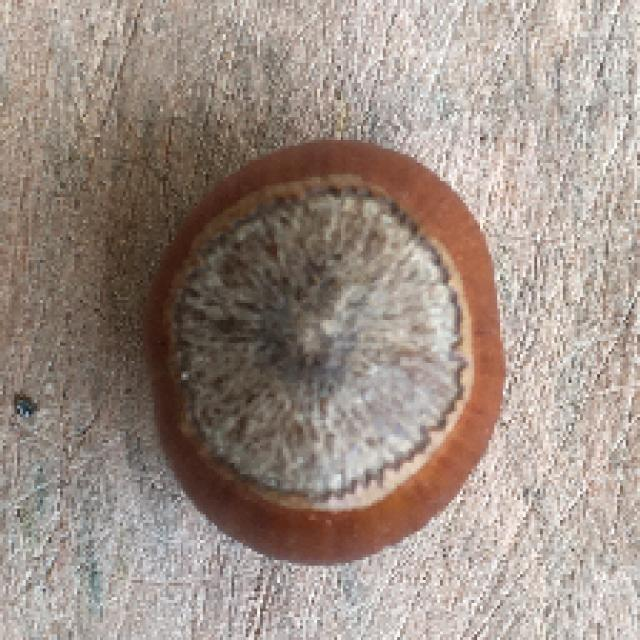qualityHazelnut: (134, 132, 511, 578)
